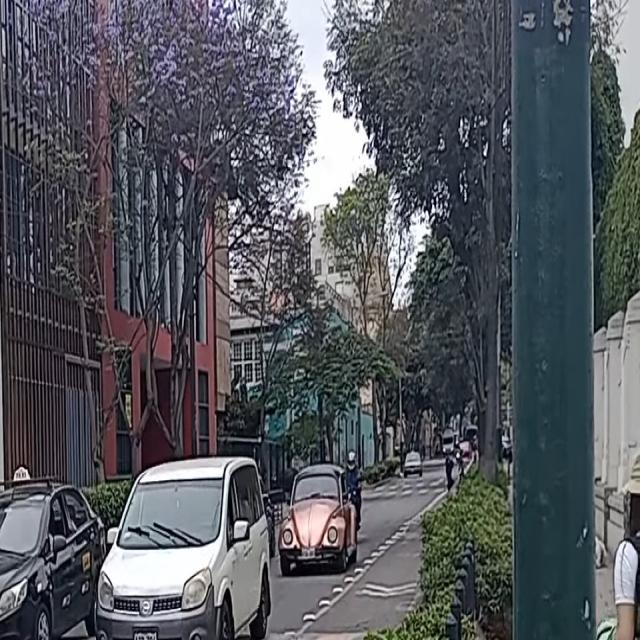car: (96, 451, 272, 640), (0, 473, 107, 640), (278, 466, 359, 570), (403, 450, 422, 478)
